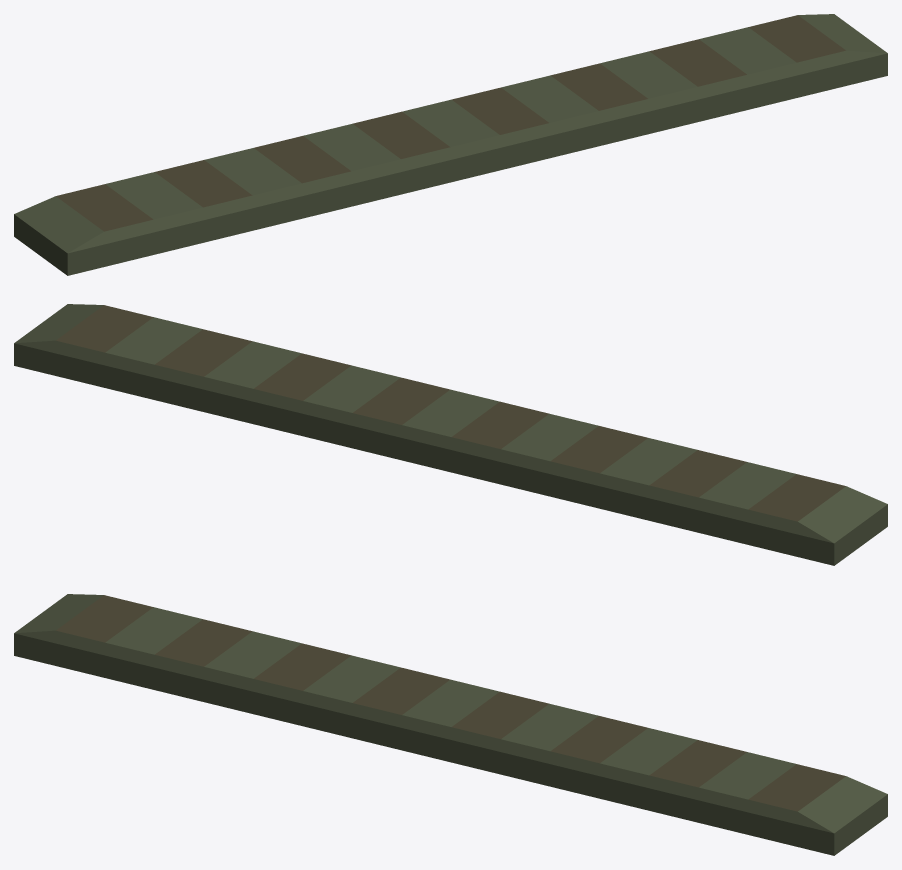
File: Road.fbx
3 views of the same model, one above another, from view 1: azimuth 30°, elevation 25°; view 2: azimuth 150°, elevation 25°; view 3: azimuth 330°, elevation 25° (orthographic).
Visible parts, largest first — view 1: 平面; view 2: 平面; view 3: 平面.
Boxes of the visible parts, x1,y1,x2,y2 form: 平面: (14,14,887,275); 平面: (14,304,887,565); 平面: (14,594,887,855).
Bounding box in the file's own units: 1290 × 146 × 49.41.
